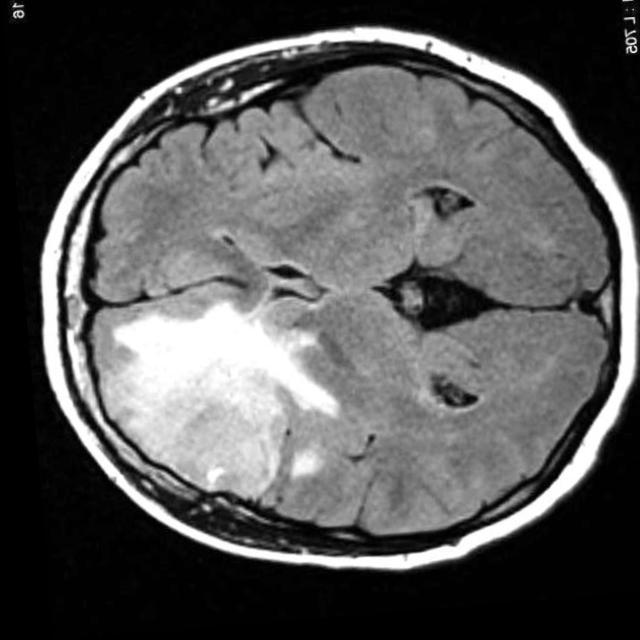Tumor: (138, 369, 274, 505)
